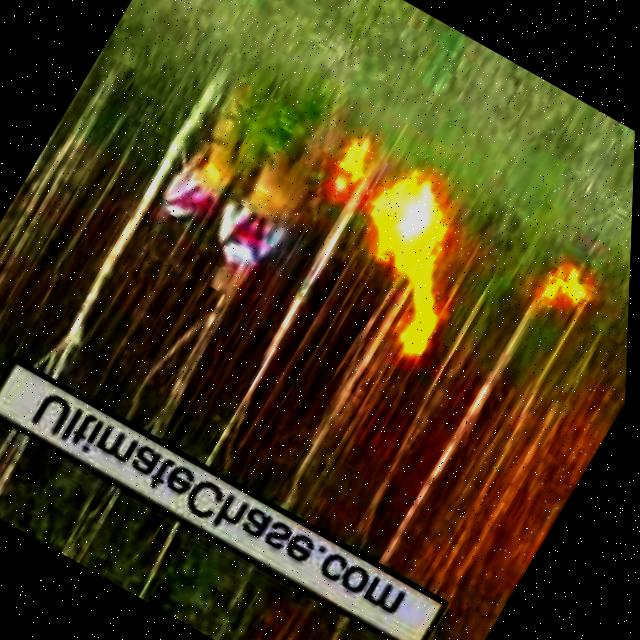Fire: (308, 158, 510, 368), (319, 130, 384, 207), (537, 254, 603, 318)
